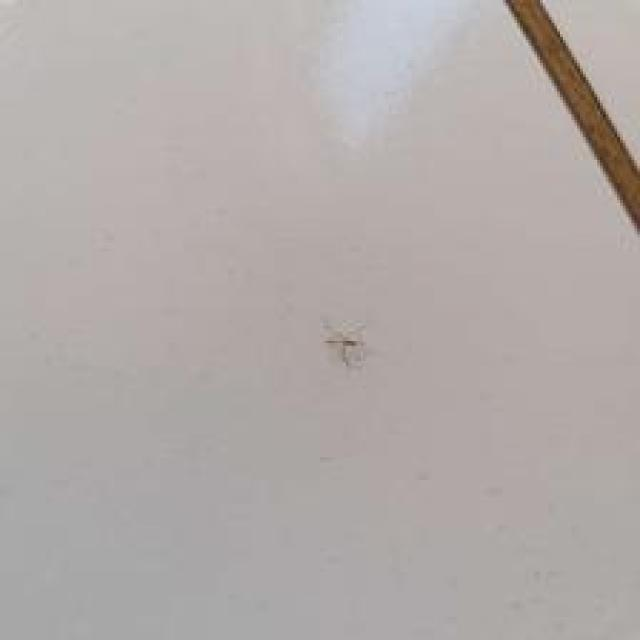Culex: (322, 319, 367, 367)
